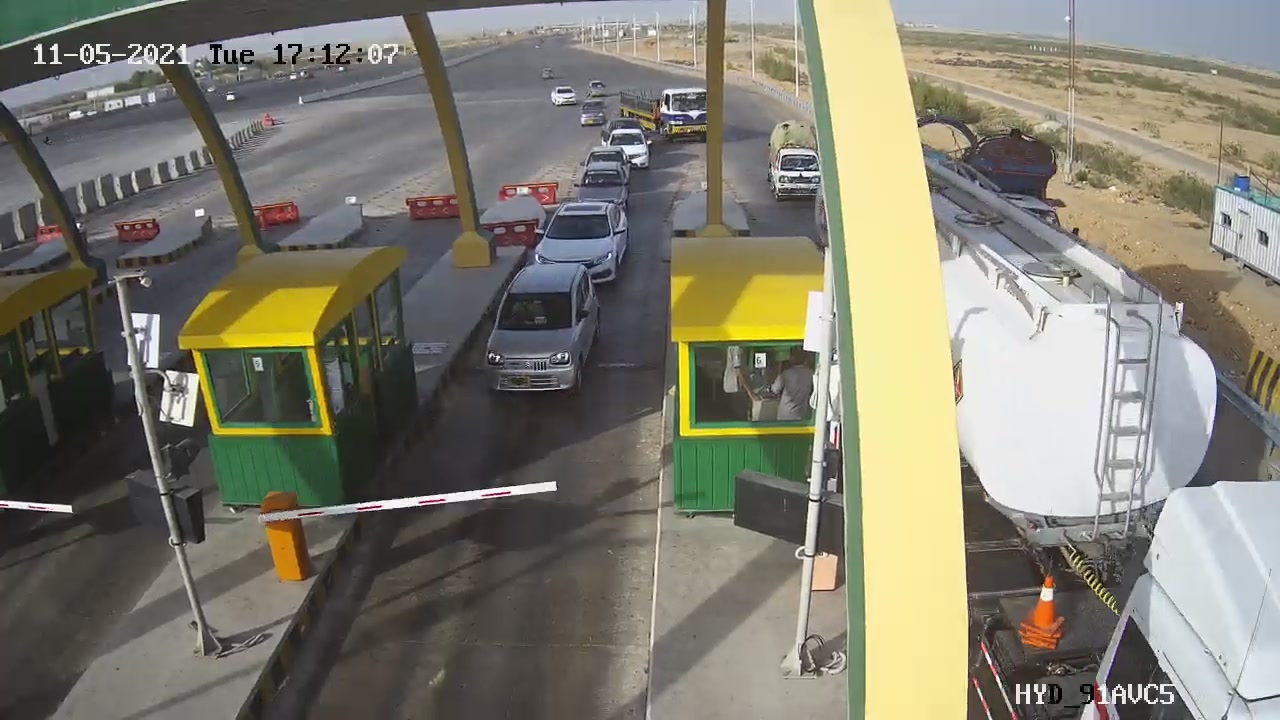F1: (464, 253, 618, 411), (520, 194, 646, 299)
